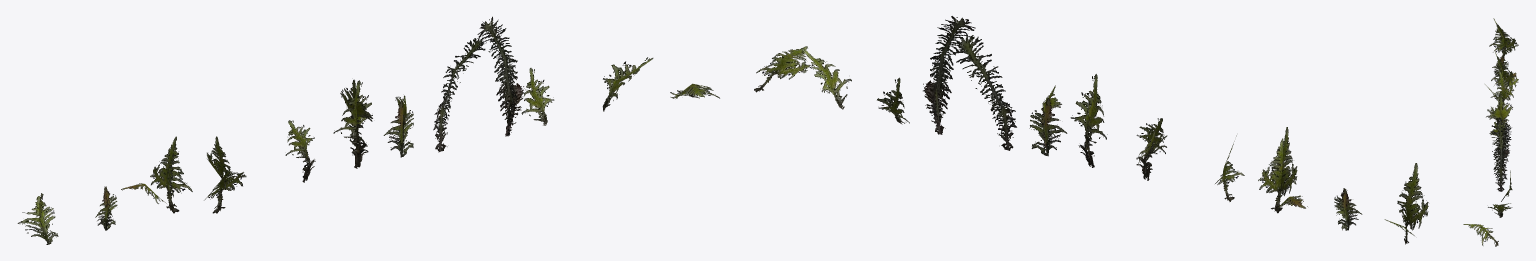
The model's file is moss_01.glb.
3 views of the same model, side by side, from view 1: azimuth 30°, elevation 25°; view 2: azimuth 150°, elevation 25°; view 3: azimuth 270°, elevation 25° (orthographic). The views are drawn at different scales.
Visible parts, largest first — view 1: moss_01_c_LOD0; view 2: moss_01_c_LOD0; view 3: moss_01_c_LOD0.
Boxes of the visible parts, <box> form: moss_01_c_LOD0: <box>17,16,719,244</box>; moss_01_c_LOD0: <box>754,16,1428,244</box>; moss_01_c_LOD0: <box>1463,18,1518,246</box>.
Size of the model in its own units: 0.2153 by 0.0404 by 0.0294.
Materials: 1 (1 with a texture image).
